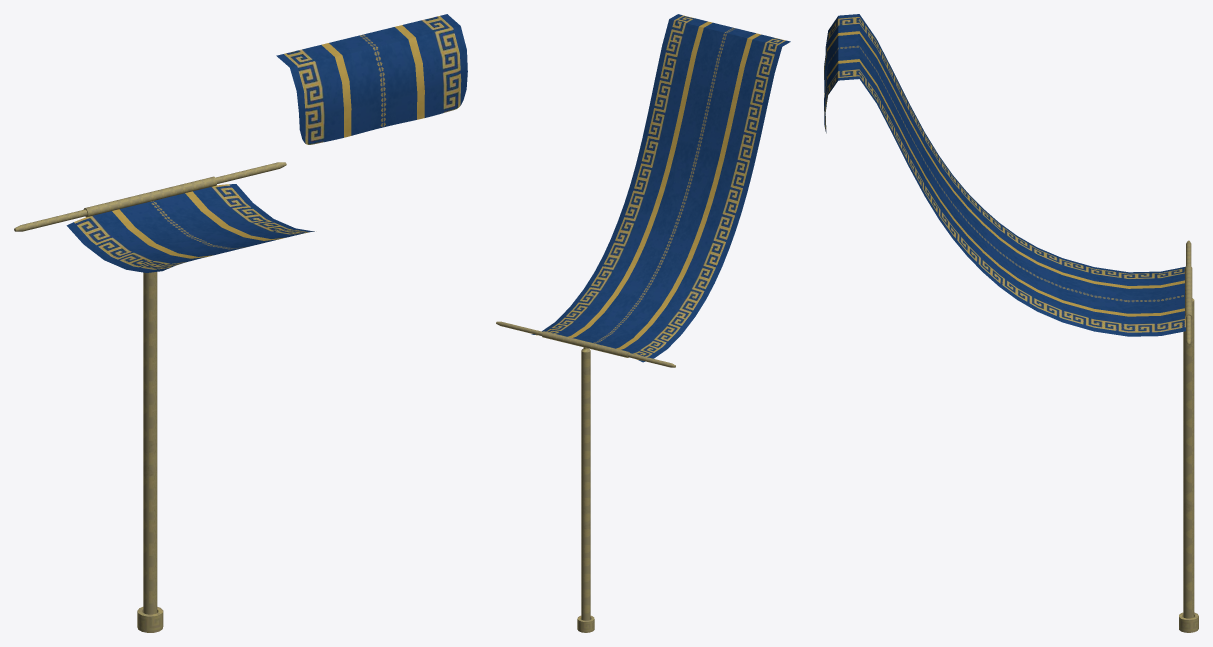
The model's file is SM_tent_03.glb.
3 renders of one model, left to right at view 1: azimuth 30°, elevation 25°; view 2: azimuth 150°, elevation 25°; view 3: azimuth 270°, elevation 25°, orthographic. The views are drawn at different scales.
Parts seen in each view (by area): view 1: SM_tent_03; view 2: SM_tent_03; view 3: SM_tent_03.
Boxes of the visible parts, <box> form: SM_tent_03: <box>14,14,467,632</box>; SM_tent_03: <box>496,14,790,632</box>; SM_tent_03: <box>824,14,1198,632</box>.
Bounding box in the file's own units: 6.07 × 16.03 × 9.36.
Materials: 2 (2 with a texture image).
